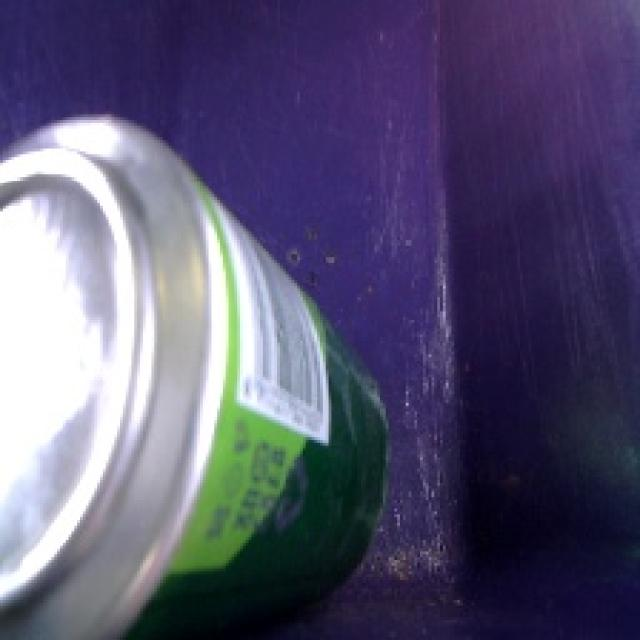metal: (0, 94, 403, 640)
